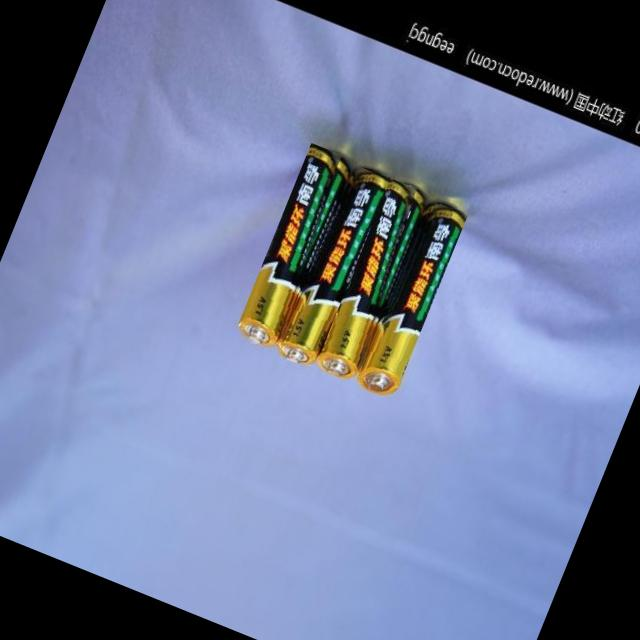Hazard: (232, 141, 354, 353), (310, 175, 432, 384), (272, 160, 391, 368), (352, 196, 468, 400)
